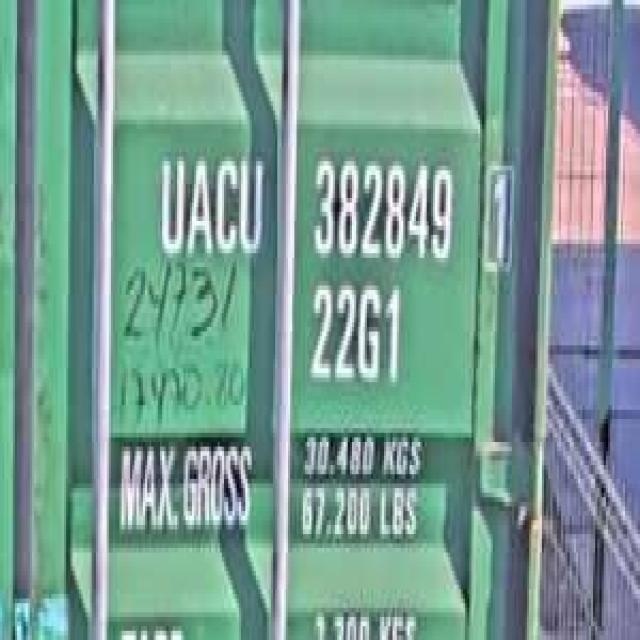dv: (480, 148, 516, 276)
owner: (154, 138, 266, 263)
serial: (305, 143, 454, 267)
size: (303, 272, 405, 396)
